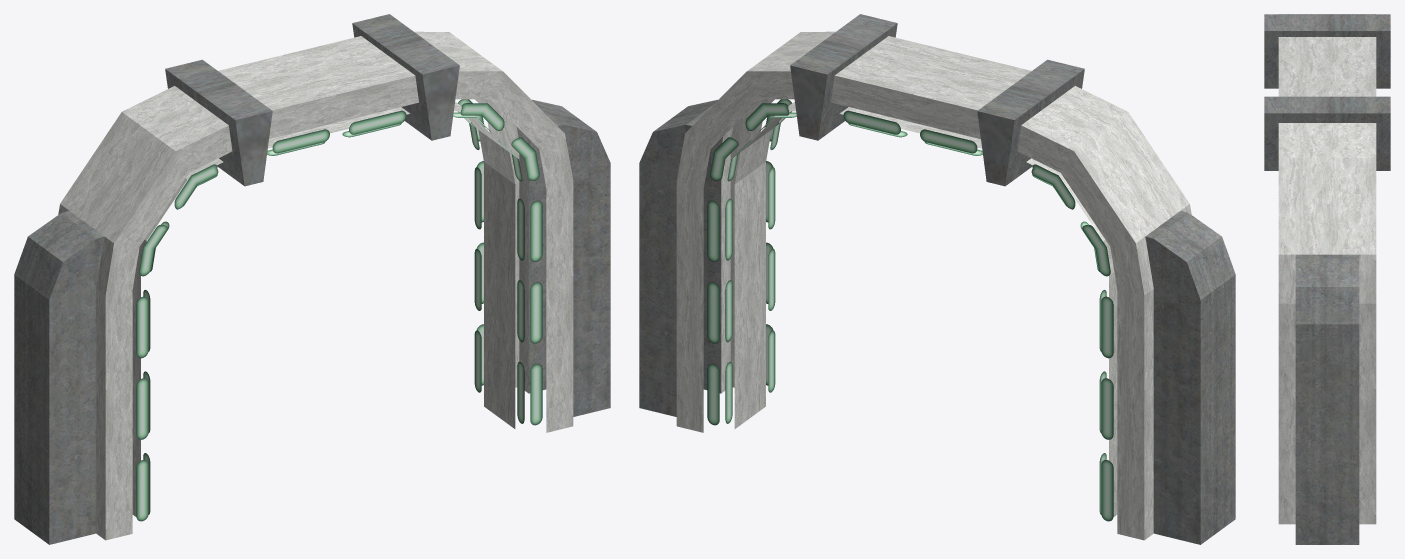
Rendered from thm_corl_imprv_arch_lg_s01_l1.fbx.
3 views of the same model, side by side, from view 1: azimuth 30°, elevation 25°; view 2: azimuth 150°, elevation 25°; view 3: azimuth 270°, elevation 25° (orthographic). The views are drawn at different scales.
Parts seen in each view (by area): view 1: mesh_node; view 2: mesh_node; view 3: mesh_node.
Part boxes in pixels (left/top/right/bottom): mesh_node: left=14, top=14, right=610, bottom=544; mesh_node: left=639, top=14, right=1235, bottom=544; mesh_node: left=1264, top=14, right=1390, bottom=544.
Size of the model in its own units: 12 by 8.1 by 2.6.
